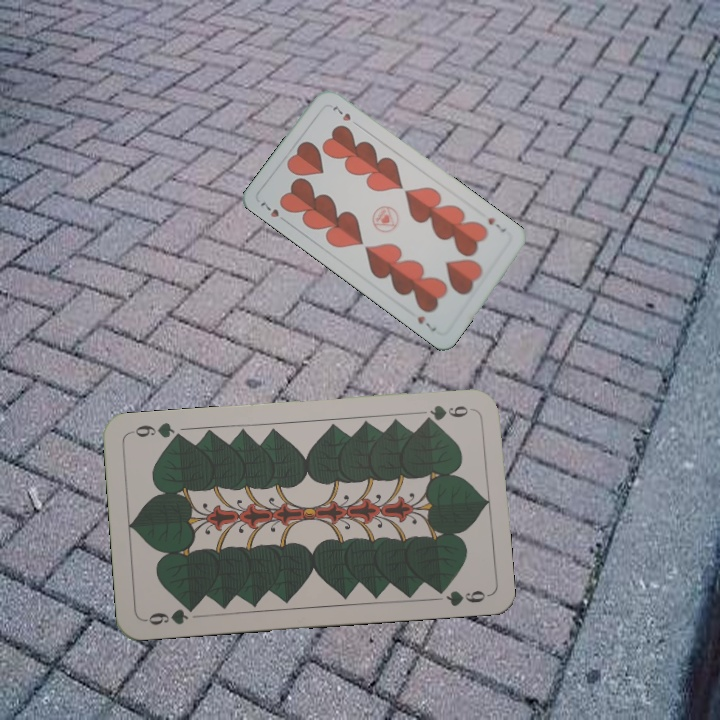G9: (141, 601, 199, 628), (417, 401, 471, 425)
H7: (256, 198, 290, 226), (483, 213, 509, 235)
